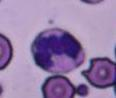N: (30, 28, 86, 73)
